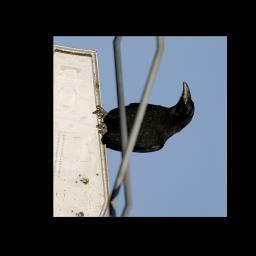Crow: (88, 68, 199, 164)
